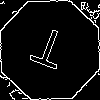T: (25, 25, 70, 79)
